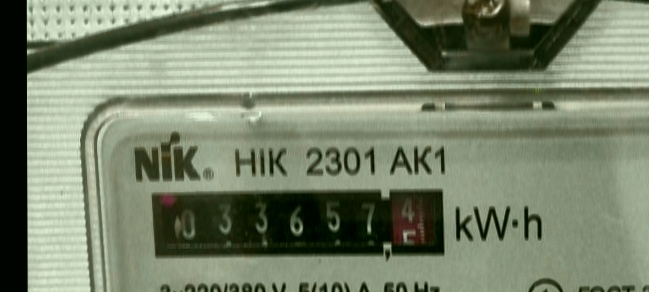0: (175, 205, 196, 242)
3: (213, 201, 232, 236), (249, 199, 267, 235)
4: (396, 194, 415, 224)
5: (319, 197, 341, 233)
6: (283, 202, 303, 237)
7: (356, 199, 374, 235)
screen: (137, 182, 450, 265)
